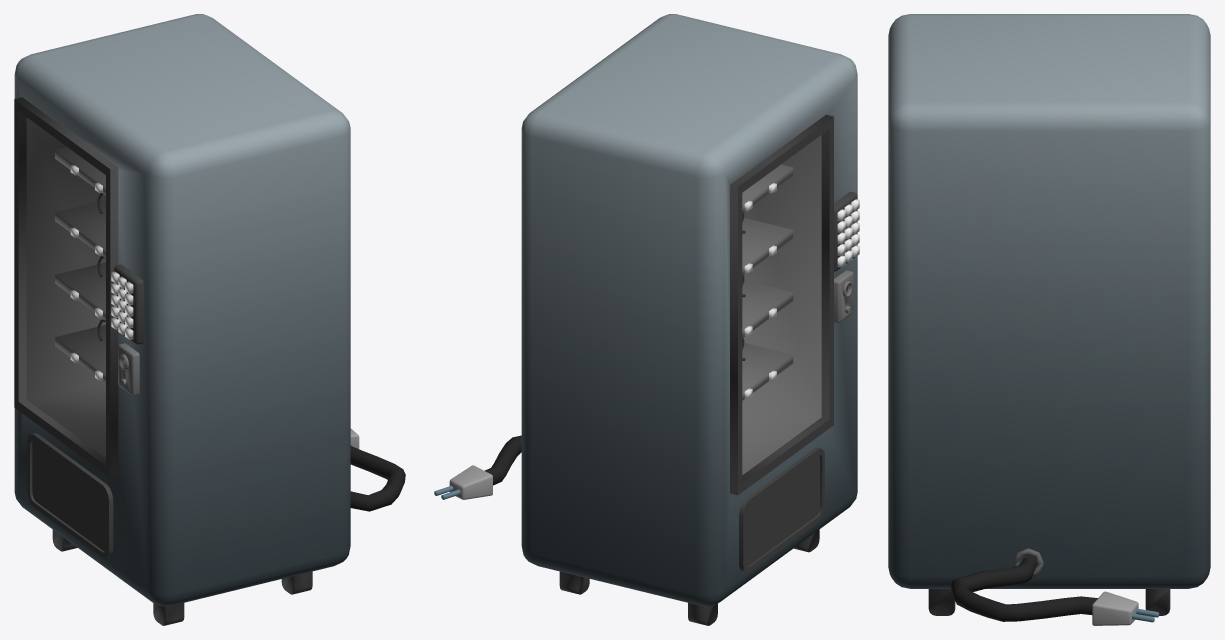
File: Vending Machine03.fbx
3 renders of one model, left to right at view 1: azimuth 30°, elevation 25°; view 2: azimuth 150°, elevation 25°; view 3: azimuth 270°, elevation 25°, orthographic. The views are drawn at different scales.
Visible parts, largest first — view 1: Vending Machine03; view 2: Vending Machine03; view 3: Vending Machine03.
Boxes of the visible parts, x1,y1,x2,y2 form: Vending Machine03: (14, 14, 405, 625); Vending Machine03: (434, 14, 859, 625); Vending Machine03: (888, 14, 1210, 625).
Bounding box in the file's own units: 1.02 × 0.8406 × 1.49.
